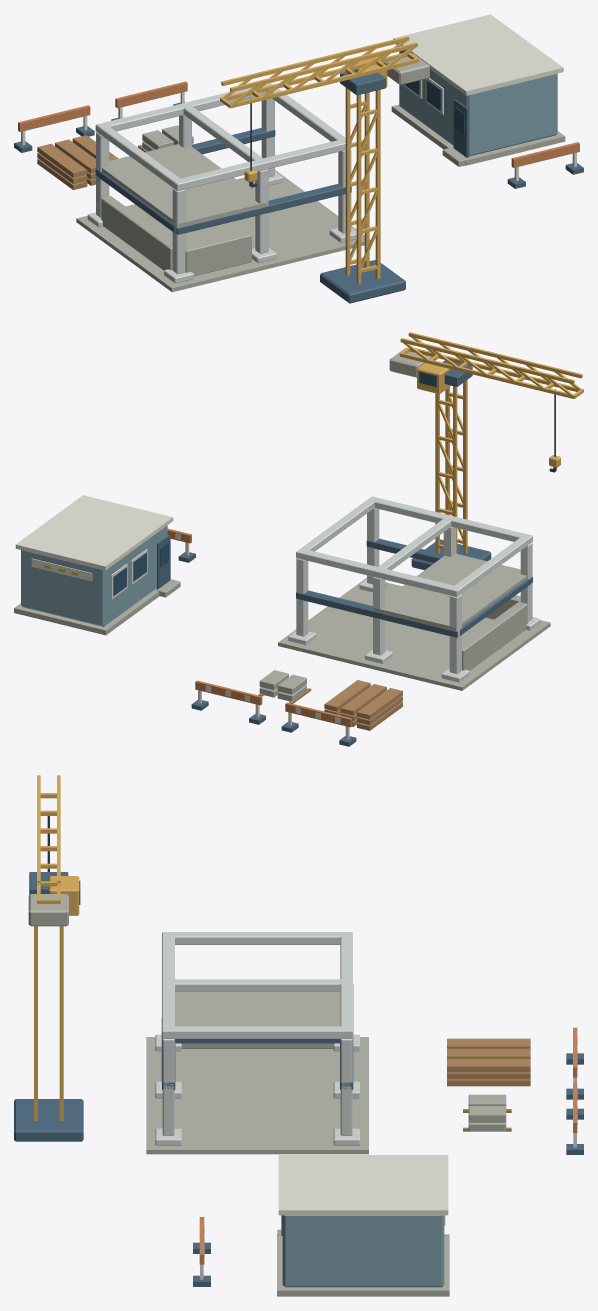
File: campus_construction_decor_v01.glb
The picture shows the model from 3 angles, top to bottom: view 1: azimuth 30°, elevation 25°; view 2: azimuth 150°, elevation 25°; view 3: azimuth 270°, elevation 25°; orthographic projection. The views are drawn at different scales.
Parts seen in each view (by area): view 1: Construction district decor; view 2: Construction district decor; view 3: Construction district decor.
Part boxes in pixels (bbox=[...]): Construction district decor: bbox=[14, 14, 583, 303]; Construction district decor: bbox=[14, 332, 583, 746]; Construction district decor: bbox=[14, 775, 583, 1296].
Size of the model in its own units: 21.7 by 10.83 by 20.47.
Materials: 1 (1 with a texture image).
